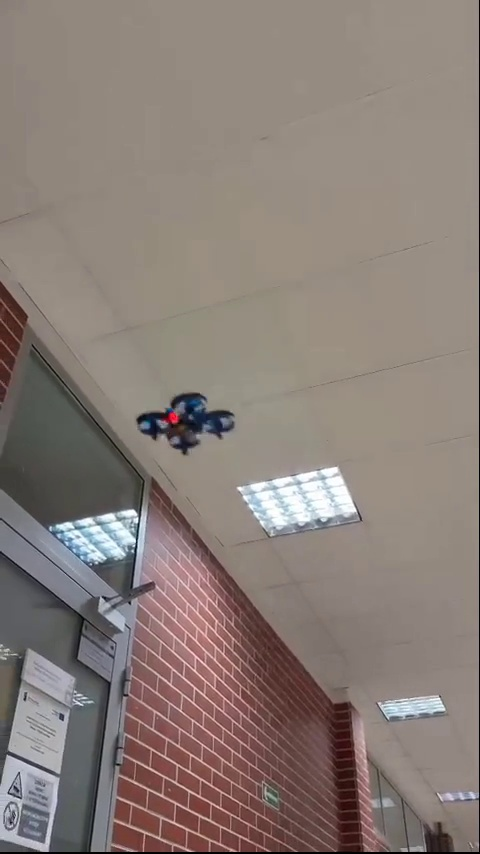drone: (132, 396, 239, 460)
